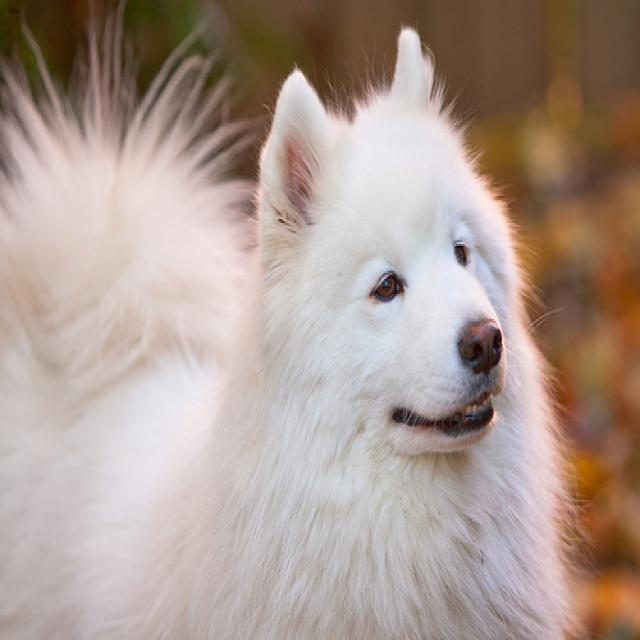dog-samoyed: (1, 6, 586, 636)
